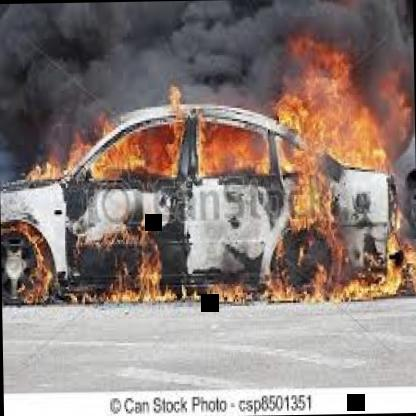fire: (0, 25, 406, 310)
